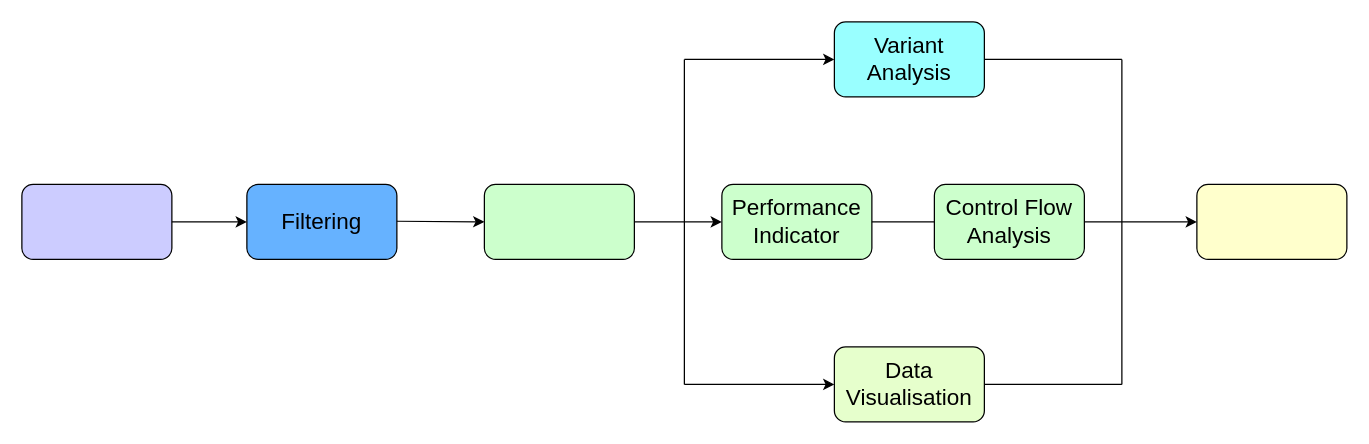
The diagram is 1369 pixels wide and 444 high, and some of its shapes have lost their labels. Here are the shapes that lost their labels. From the top down, the box of each, then its label:
(21, 183, 172, 259): Data Observation
(483, 183, 634, 259): Process Discovery
(1196, 183, 1347, 259): Conformance Checking
